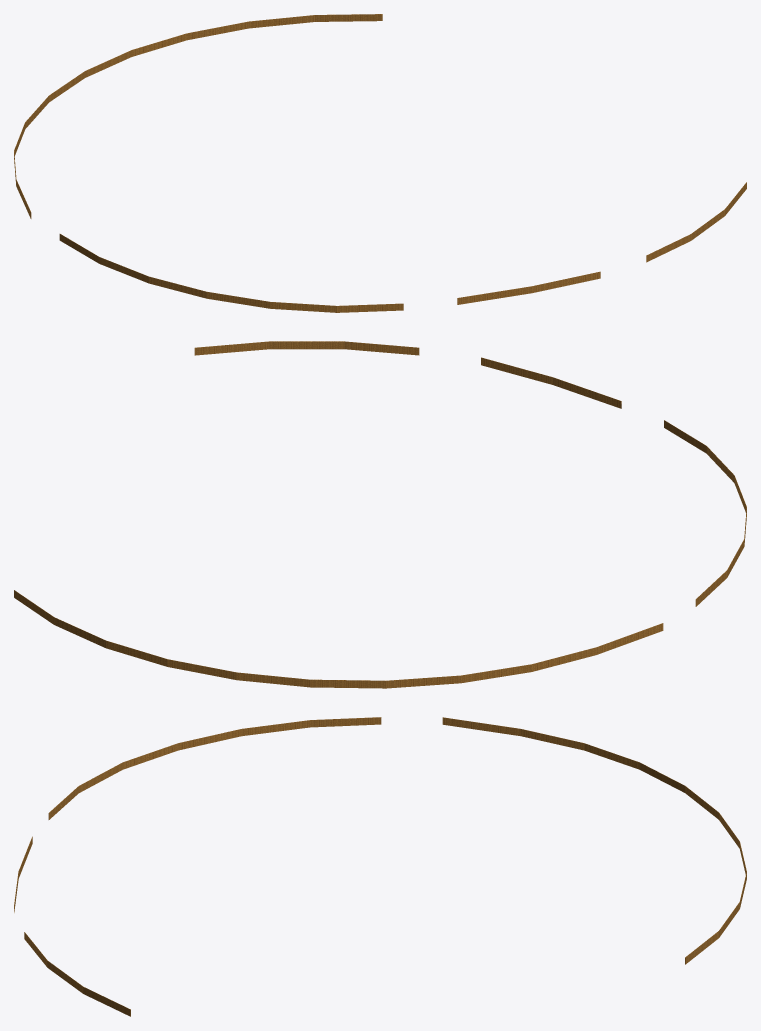
The model's file is cerca.fbx.
3 renders of one model, top to bottom at view 1: azimuth 30°, elevation 25°; view 2: azimuth 150°, elevation 25°; view 3: azimuth 270°, elevation 25°, orthographic. The views are drawn at different scales.
Parts seen in each view (by area): view 1: cerca; view 2: cerca; view 3: cerca.
Boxes of the visible parts, x1,y1,x2,y2 form: cerca: (14, 14, 746, 312); cerca: (14, 341, 746, 688); cerca: (14, 717, 746, 1016).
Bounding box in the file's own units: 20707 × 241 × 21935.
